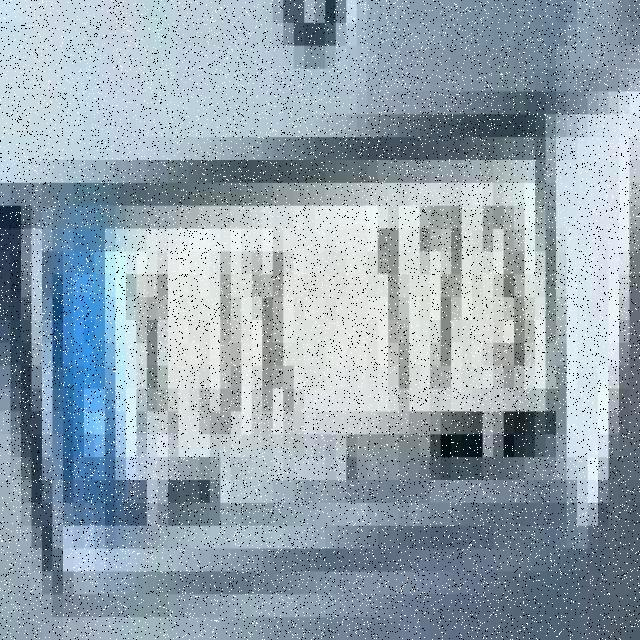licenseplate: (22, 119, 596, 526)
